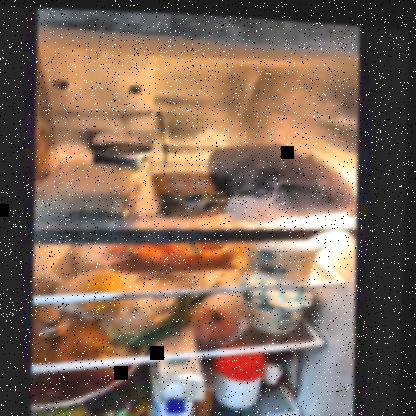butter: (152, 165, 232, 215)
carrot: (115, 236, 240, 272)
cheese: (42, 158, 134, 196)
green_chillies: (109, 294, 196, 347)
lemon: (75, 271, 136, 314)
milk: (153, 356, 210, 415)
tomato: (192, 300, 247, 338)
yoghurt: (244, 273, 316, 330), (249, 234, 327, 279), (89, 138, 156, 166)
